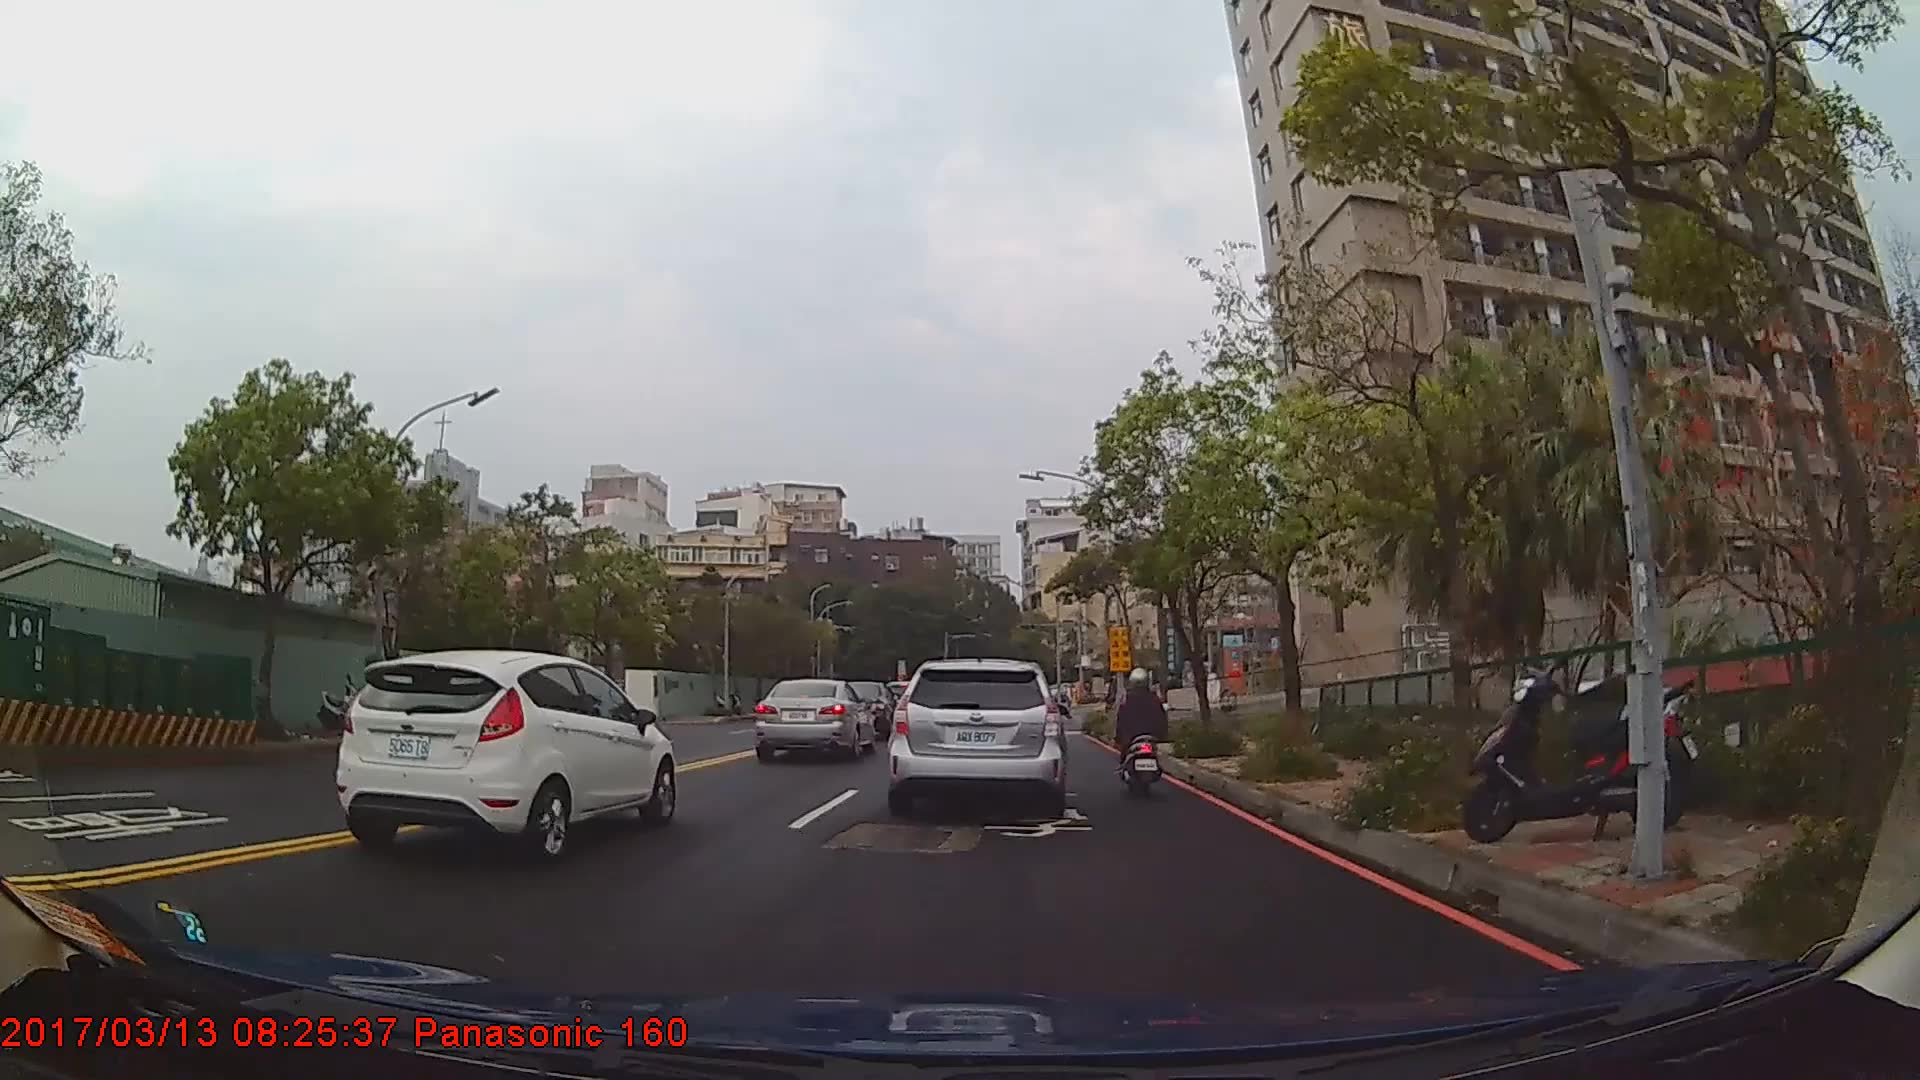rider: (1115, 669, 1169, 802)
vehicle: (335, 648, 675, 862), (888, 658, 1061, 815), (751, 676, 875, 761)
